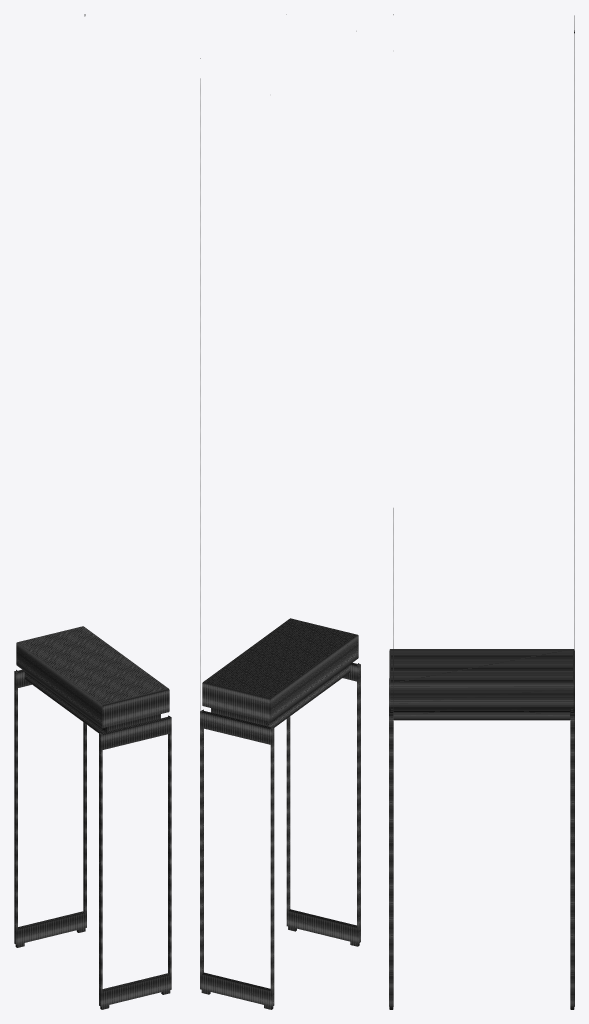
File: Mueblebano.obj
3 views of the same model, side by side, from view 1: azimuth 30°, elevation 25°; view 2: azimuth 150°, elevation 25°; view 3: azimuth 270°, elevation 25° (orthographic). The views are drawn at different scales.
Parts seen in each view (by area): view 1: Liam_Side_Table_40x40x60; view 2: Liam_Side_Table_40x40x60; view 3: Liam_Side_Table_40x40x60.
Part boxes in pixels (x1=…): Liam_Side_Table_40x40x60: x1=14, y1=14, x2=171, y2=1009; Liam_Side_Table_40x40x60: x1=200, y1=14, x2=360, y2=1009; Liam_Side_Table_40x40x60: x1=389, y1=14, x2=574, y2=1009.
Size of the model in its own units: 2.09 by 25.89 by 4.45.
Materials: 1 (1 with a texture image).
